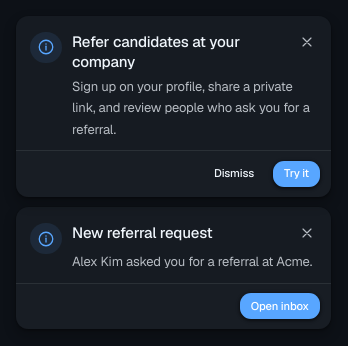
ProductNoticesHost › dismisses the feature card once
Expected: the text "Refer candidates at your company" is shown, [72,32,240,71]
Click the button "Dismiss" at (234,174), box [202,160,265,188]
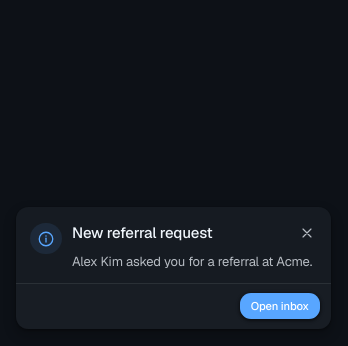
Expected: the text "Refer candidates at your company" is gone
